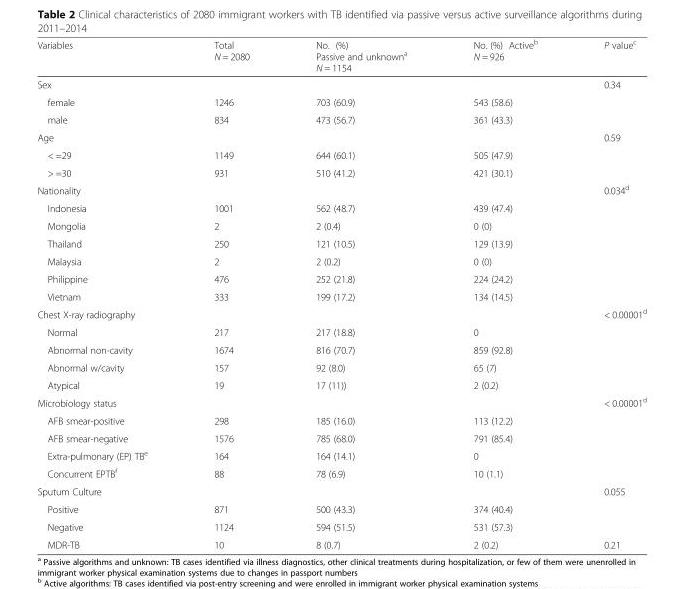table: (36, 37, 646, 549)
table column: (282, 37, 439, 549), (36, 37, 180, 549), (439, 37, 570, 549), (180, 37, 282, 549), (570, 37, 646, 549)
table column header: (36, 37, 646, 75)
table row: (36, 37, 646, 75), (36, 180, 646, 199), (36, 304, 646, 323), (36, 463, 646, 482), (36, 92, 646, 110), (36, 110, 646, 128), (36, 145, 646, 163), (36, 216, 646, 234), (36, 234, 646, 252), (36, 269, 646, 287), (36, 340, 646, 358), (36, 358, 646, 376), (36, 393, 646, 411), (36, 411, 646, 429), (36, 482, 646, 500), (36, 517, 646, 535), (36, 75, 646, 92), (36, 128, 646, 145), (36, 163, 646, 180), (36, 199, 646, 216), (36, 252, 646, 269), (36, 287, 646, 304), (36, 323, 646, 340), (36, 376, 646, 393), (36, 429, 646, 446), (36, 446, 646, 463), (36, 500, 646, 517), (36, 535, 646, 549)
table spanning cell: (36, 180, 570, 199), (36, 304, 570, 323), (36, 393, 570, 411), (36, 482, 570, 500), (36, 75, 570, 92), (36, 128, 570, 145)
